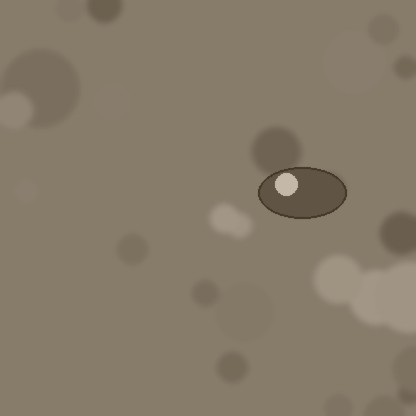gota: (258, 169, 346, 223)
